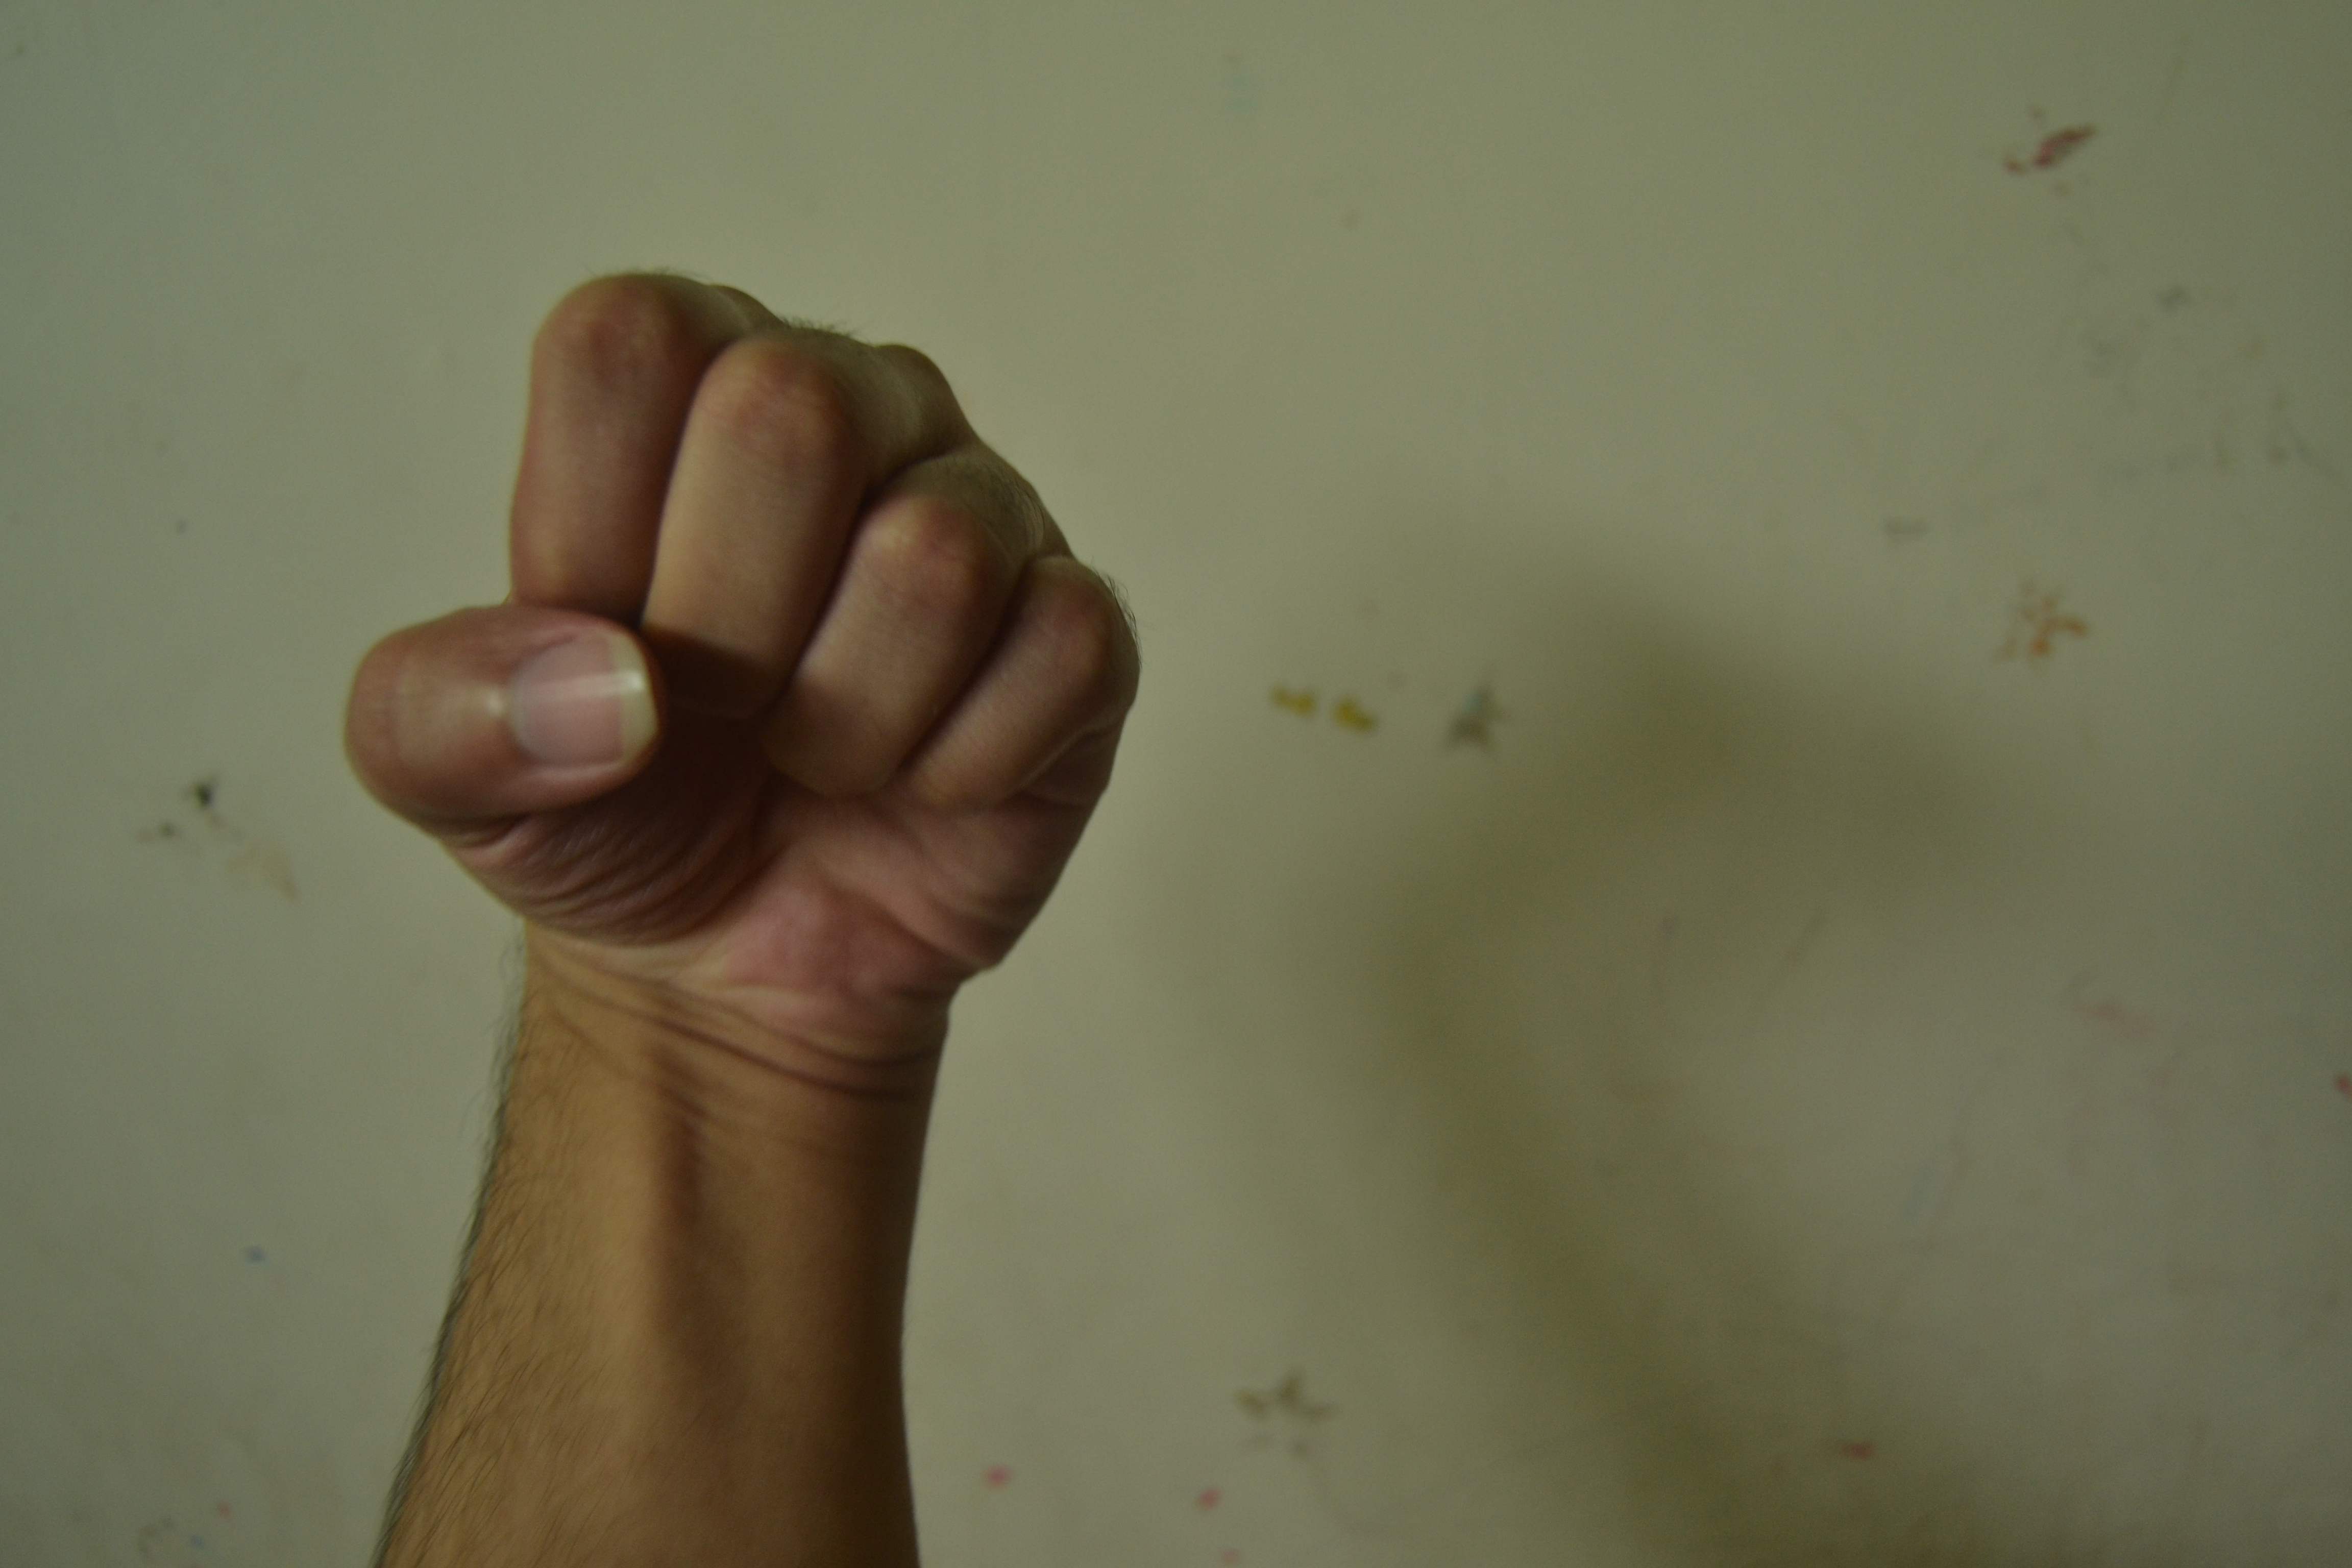click: (264, 210, 1270, 1085)
